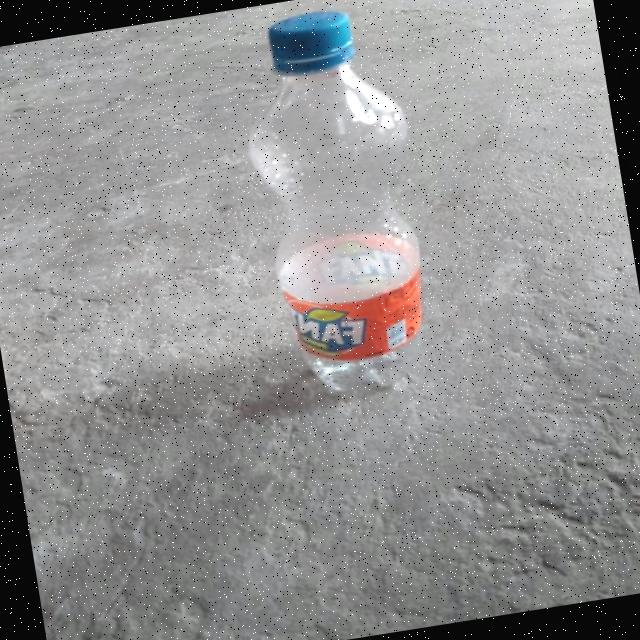bottle: (220, 0, 465, 415)
cap: (262, 2, 364, 74)
label: (272, 268, 435, 366)
